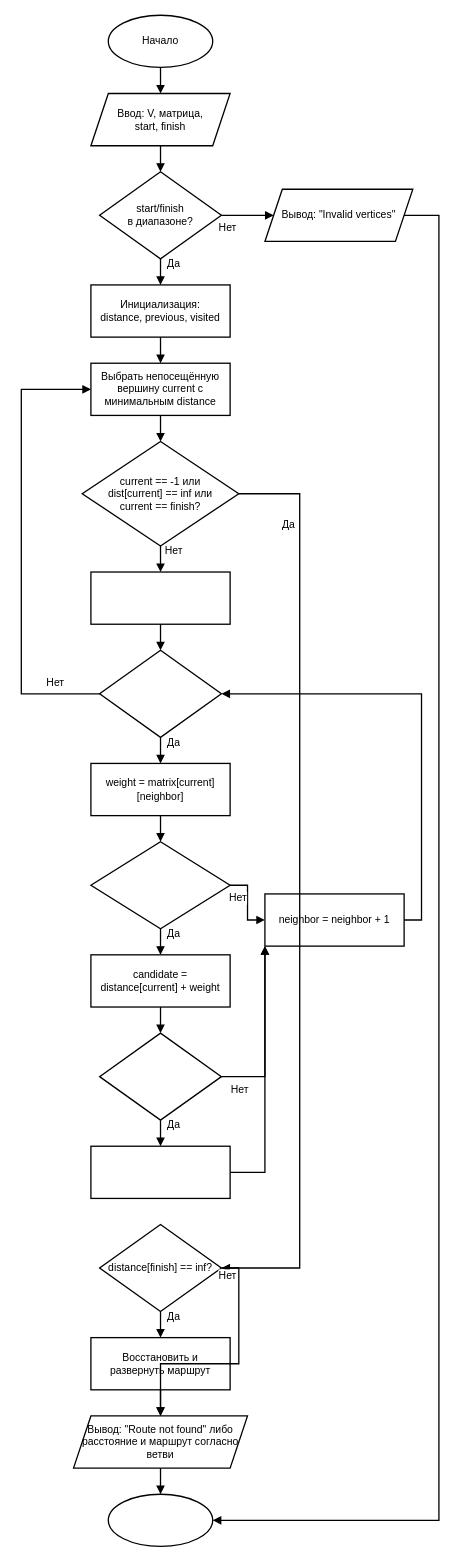
Some shapes in this 462 by 1563 pixel diagram are drawn without their labels. Each missing label, with the centre of its shape:
"candidate < distance[neighbor]?" goes at (x=160, y=1076).
"neighbor < vertex_count?" goes at (x=160, y=693).
"visited[current] = true; neighbor = 0" goes at (x=160, y=597).
"weight > 0 и neighbor не посещён?" goes at (x=160, y=885).
"Конец" goes at (x=160, y=1520).
"Обновить distance и previous" goes at (x=160, y=1172).
